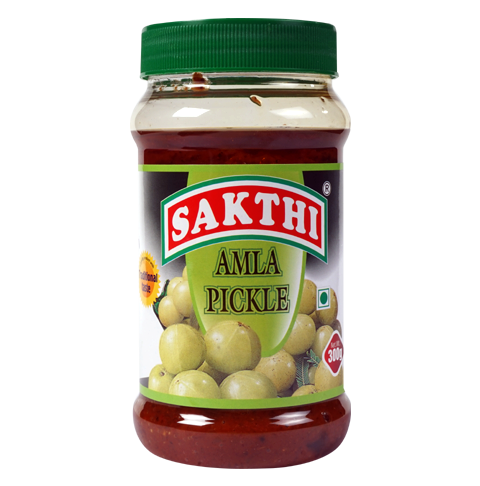VEG: (316, 288, 331, 312)
